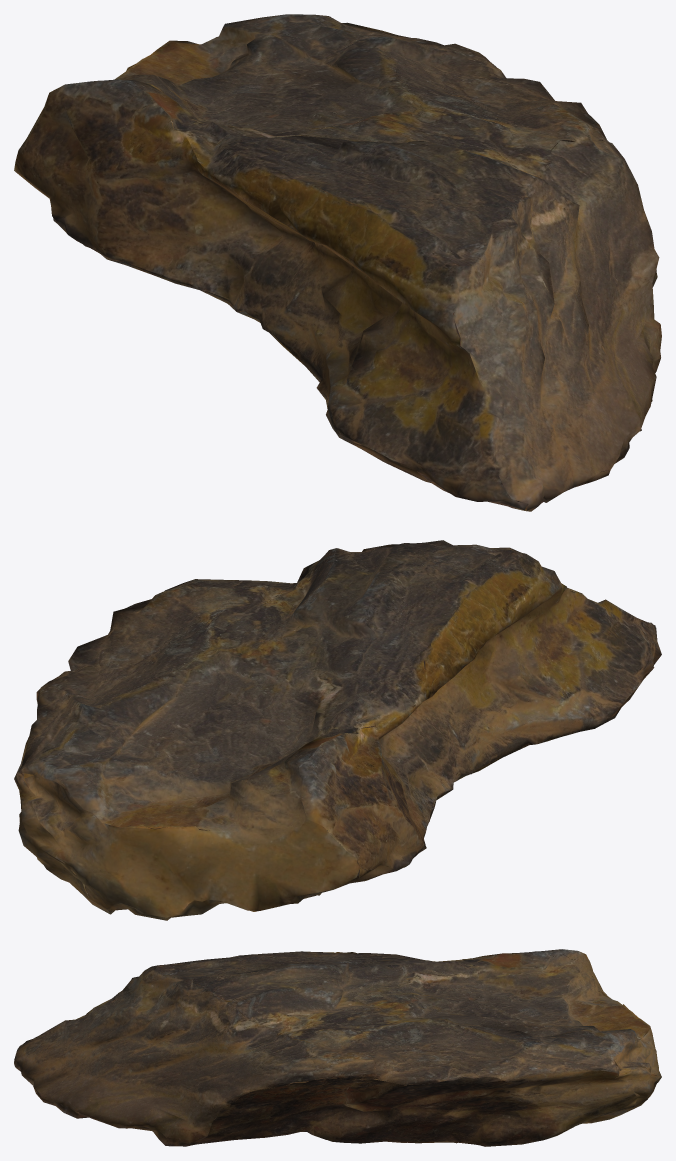
Rendered from kf_rock_09.glb.
The picture shows the model from 3 angles, top to bottom: view 1: azimuth 30°, elevation 25°; view 2: azimuth 150°, elevation 25°; view 3: azimuth 270°, elevation 25°; orthographic projection. The views are drawn at different scales.
Parts seen in each view (by area): view 1: rock_09_LOD0; view 2: rock_09_LOD0; view 3: rock_09_LOD0.
Boxes of the visible parts, x1,y1,x2,y2 form: rock_09_LOD0: (14,14,661,511); rock_09_LOD0: (14,540,661,920); rock_09_LOD0: (14,949,661,1146).
Size of what is drawn, in the model's own units: 0.0741 by 0.0328 by 0.1449.
1 material, 1 textured.
